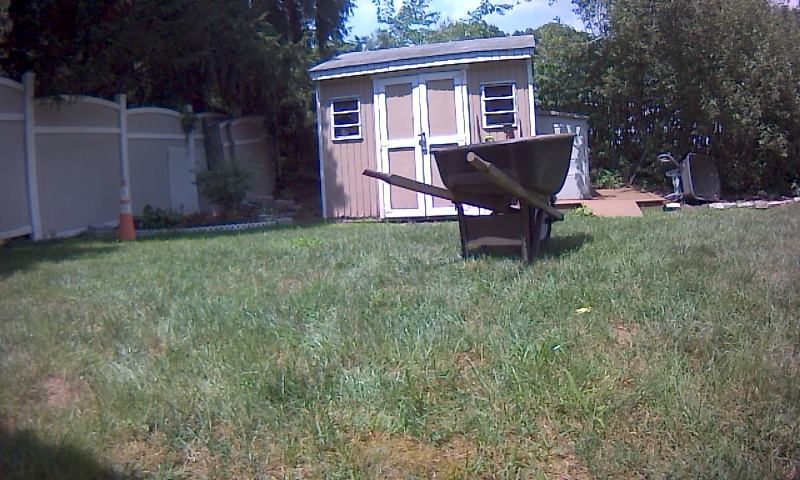wheelbarrow: (353, 129, 618, 279)
